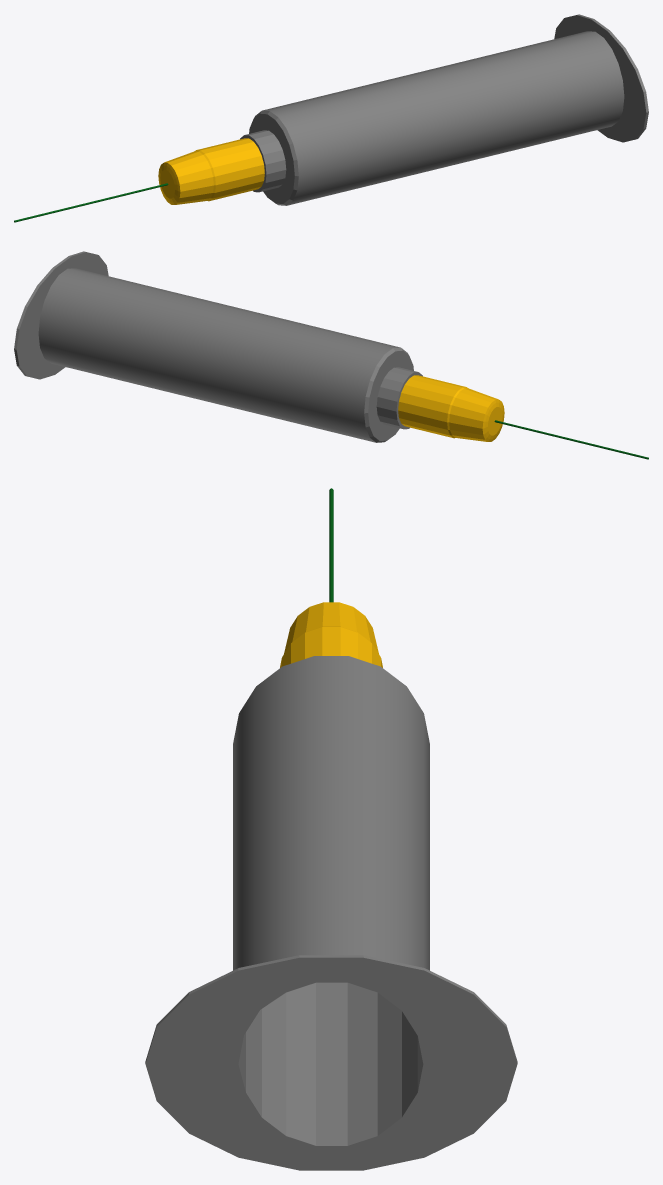
The model's file is Jeringa3.fbx.
The picture shows the model from 3 angles, top to bottom: view 1: azimuth 30°, elevation 25°; view 2: azimuth 150°, elevation 25°; view 3: azimuth 270°, elevation 25°; orthographic projection. The views are drawn at different scales.
Visible parts, largest first — view 1: Aguja1; view 2: Aguja1; view 3: Aguja1.
Part boxes in pixels (x1=…): Aguja1: x1=14, y1=14, x2=648, y2=222; Aguja1: x1=14, y1=251, x2=648, y2=459; Aguja1: x1=145, y1=488, x2=517, y2=1170.
Bounding box in the file's own units: 19.4 × 3.35 × 5.32.
